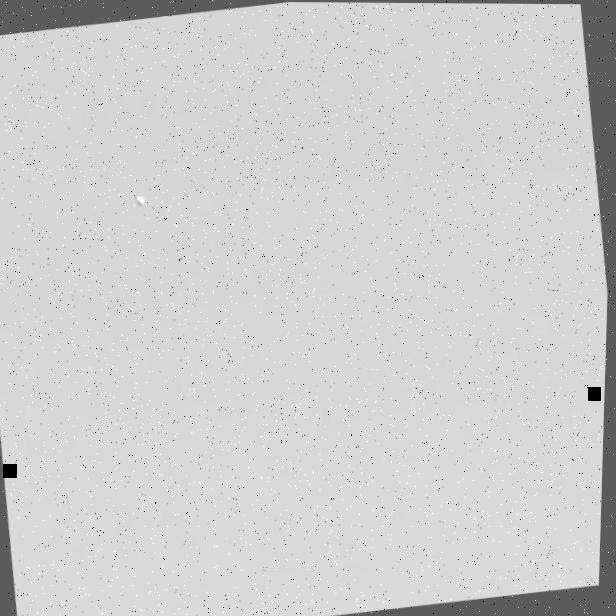GolfBall: (137, 196, 146, 205)
